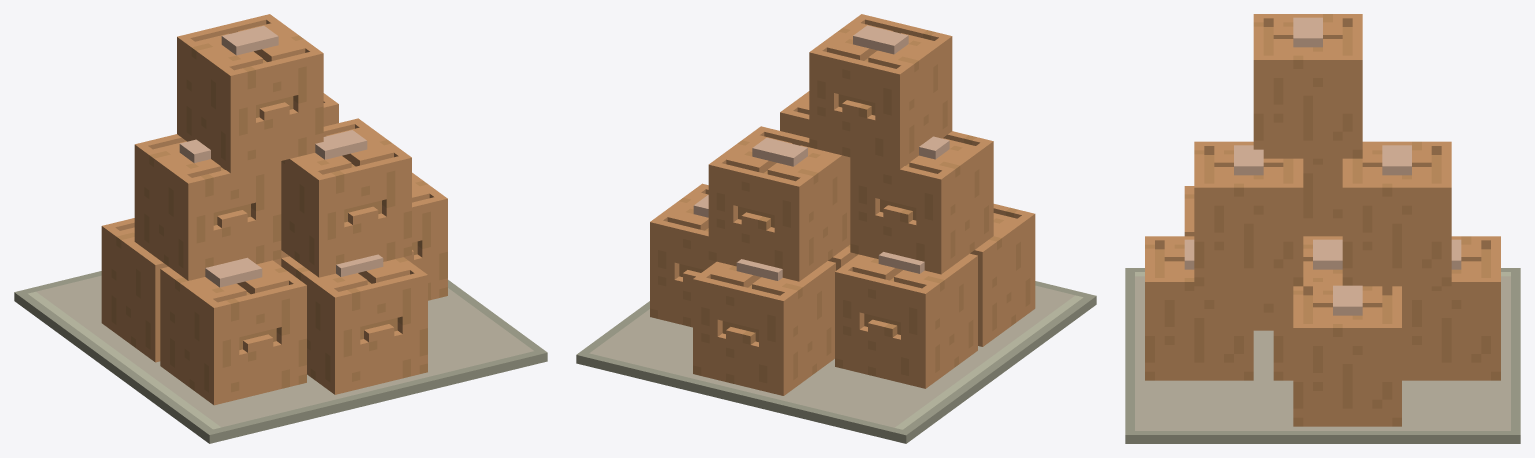
The model's file is Box_little_2.obj.
The picture shows the model from 3 angles, left to right: view 1: azimuth 30°, elevation 25°; view 2: azimuth 150°, elevation 25°; view 3: azimuth 270°, elevation 25°; orthographic projection. The views are drawn at different scales.
Bounding box in the file's own units: 40 × 35 × 40.
Materials: 1 (1 with a texture image).
